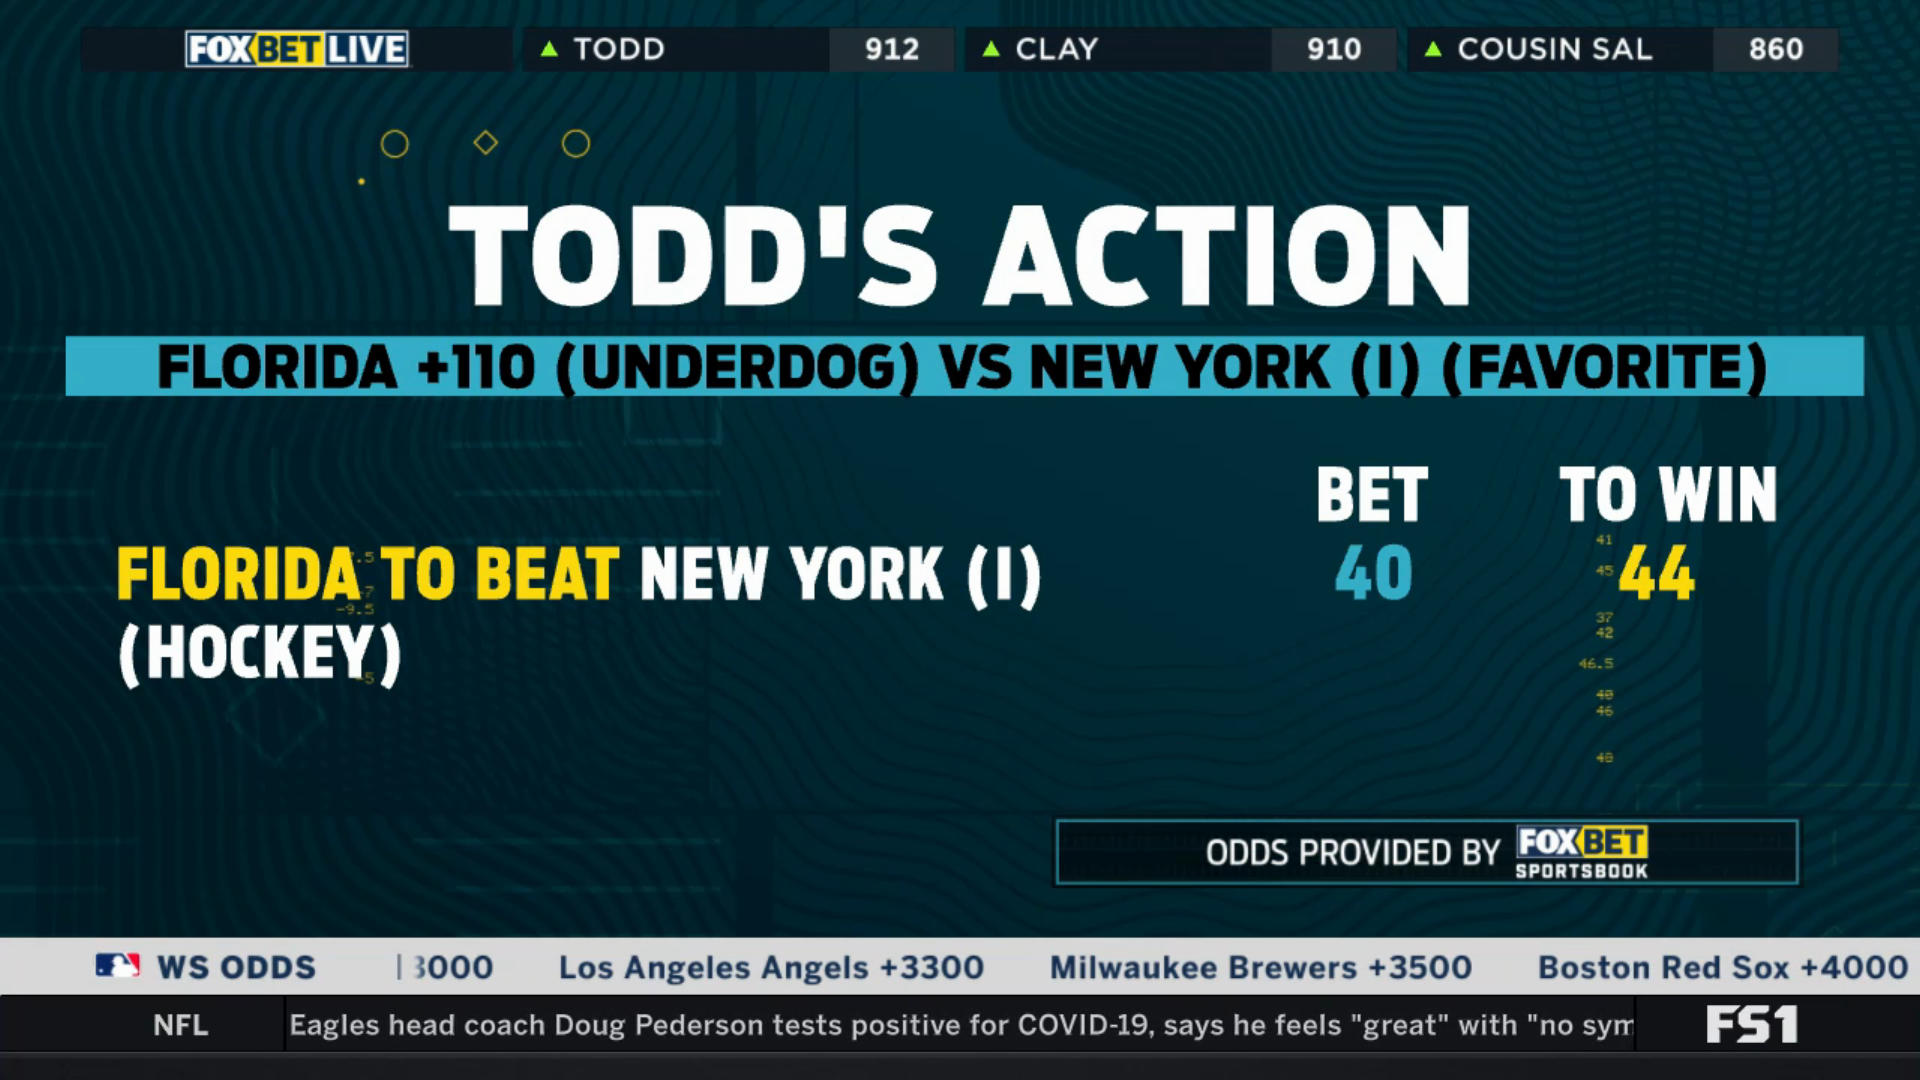Bet: (103, 531, 1052, 705)
Bet Amount: (1304, 452, 1443, 615)
Subtitle: (55, 324, 1875, 409)
Title: (439, 195, 1484, 316)
To Win: (1549, 454, 1793, 620)
Top Bar: (71, 15, 1849, 84)
